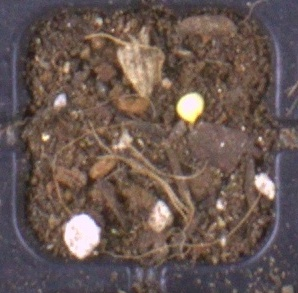chilli seed: (174, 91, 206, 124)
